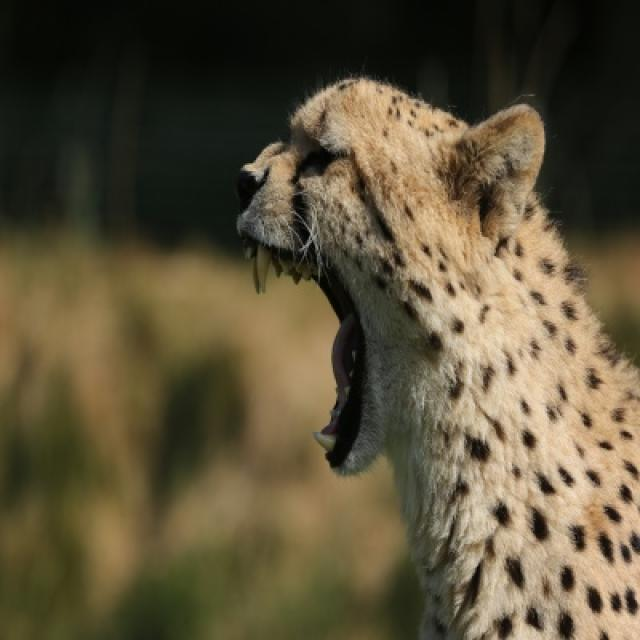Cheetah: (234, 77, 638, 638)
